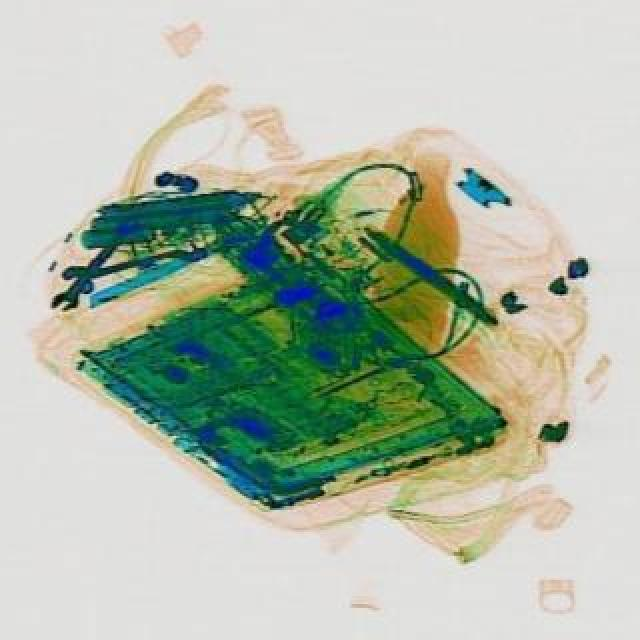scissors: (46, 216, 138, 322), (56, 234, 204, 298)
